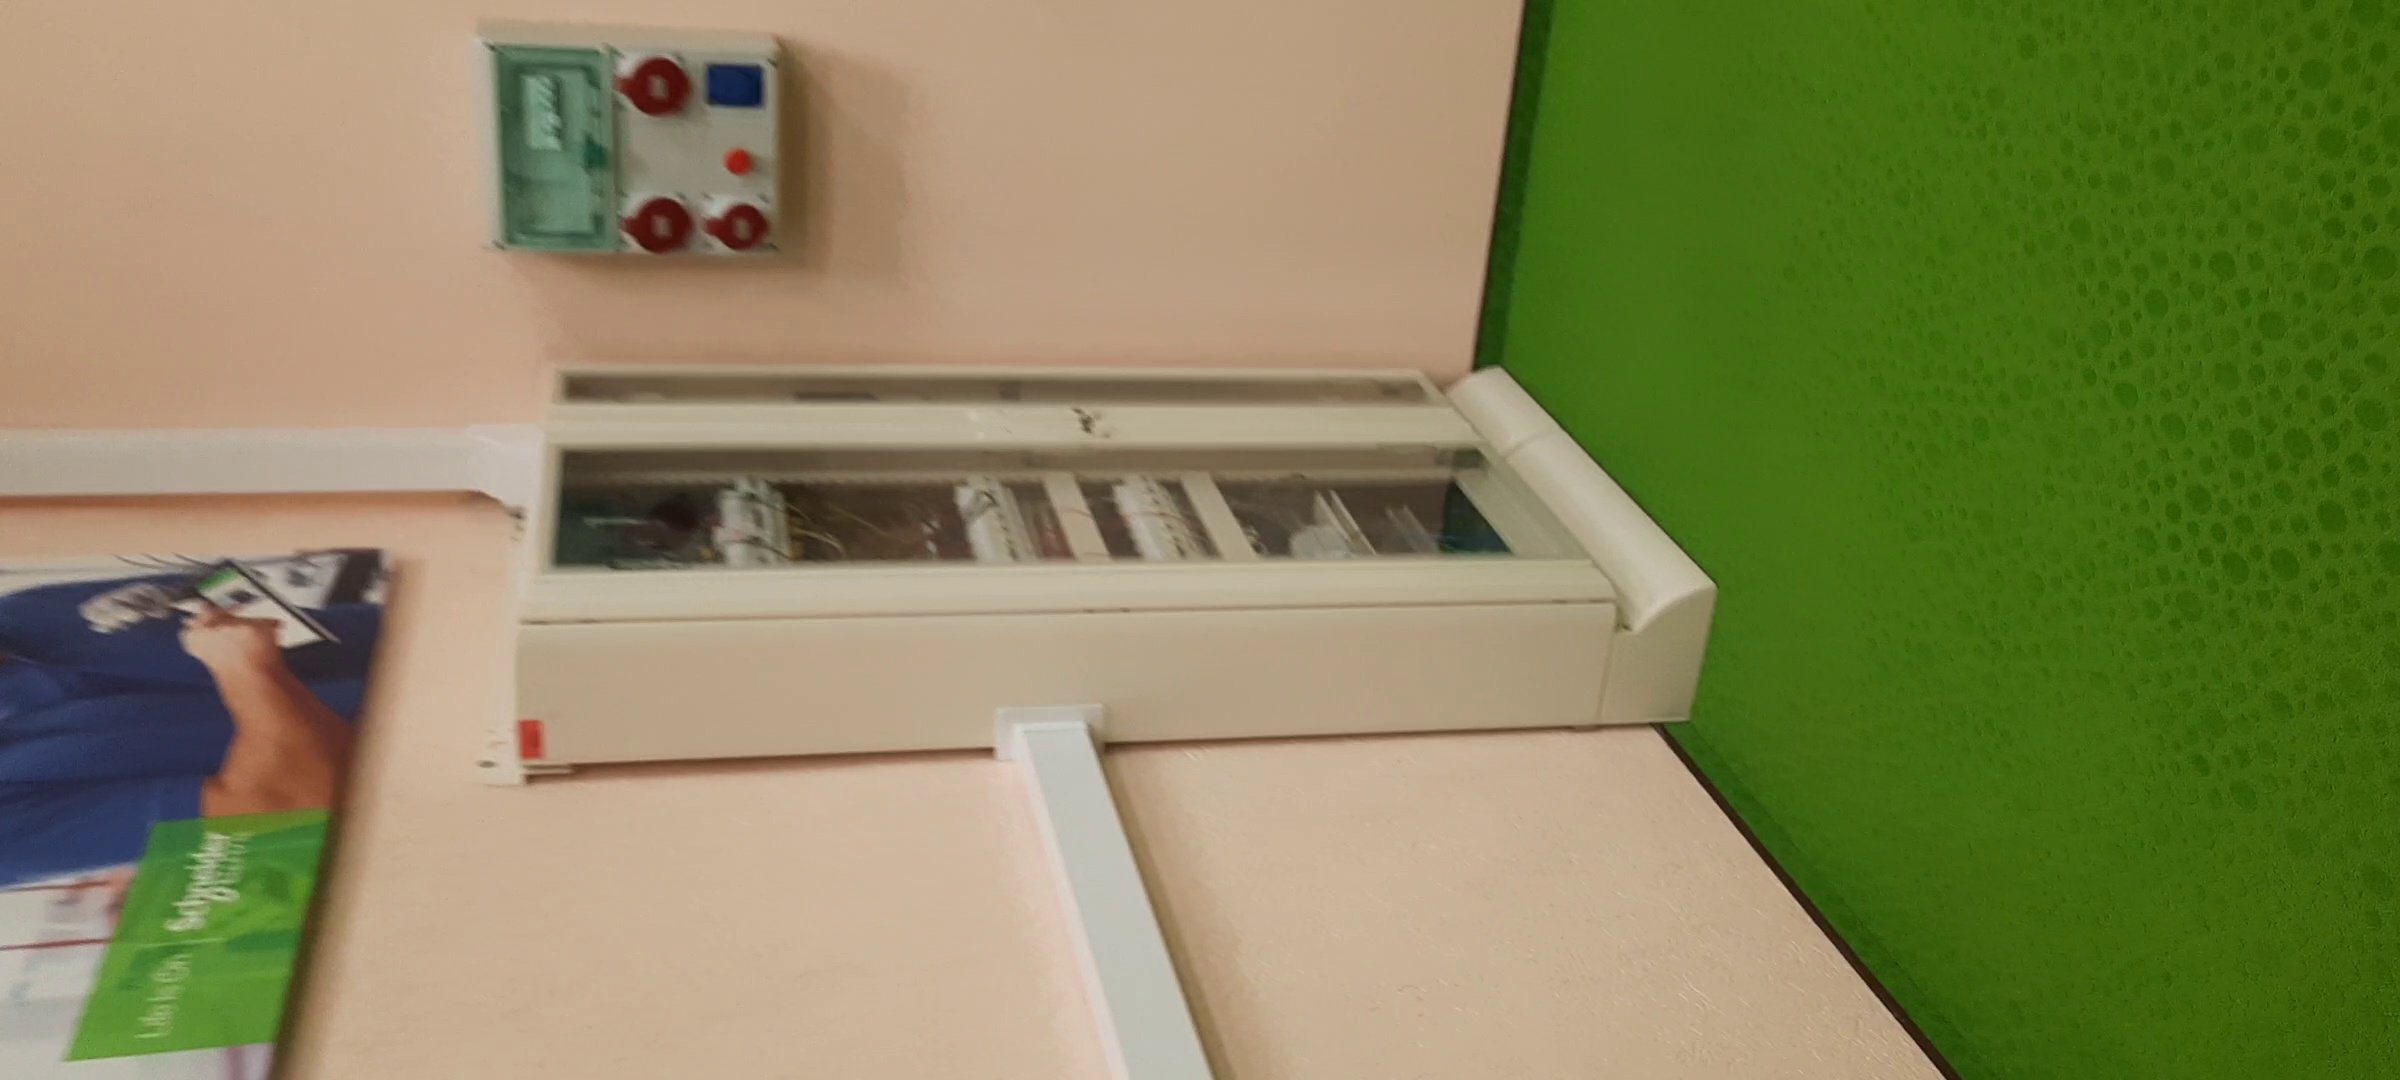stand1: (514, 363, 1693, 759)
